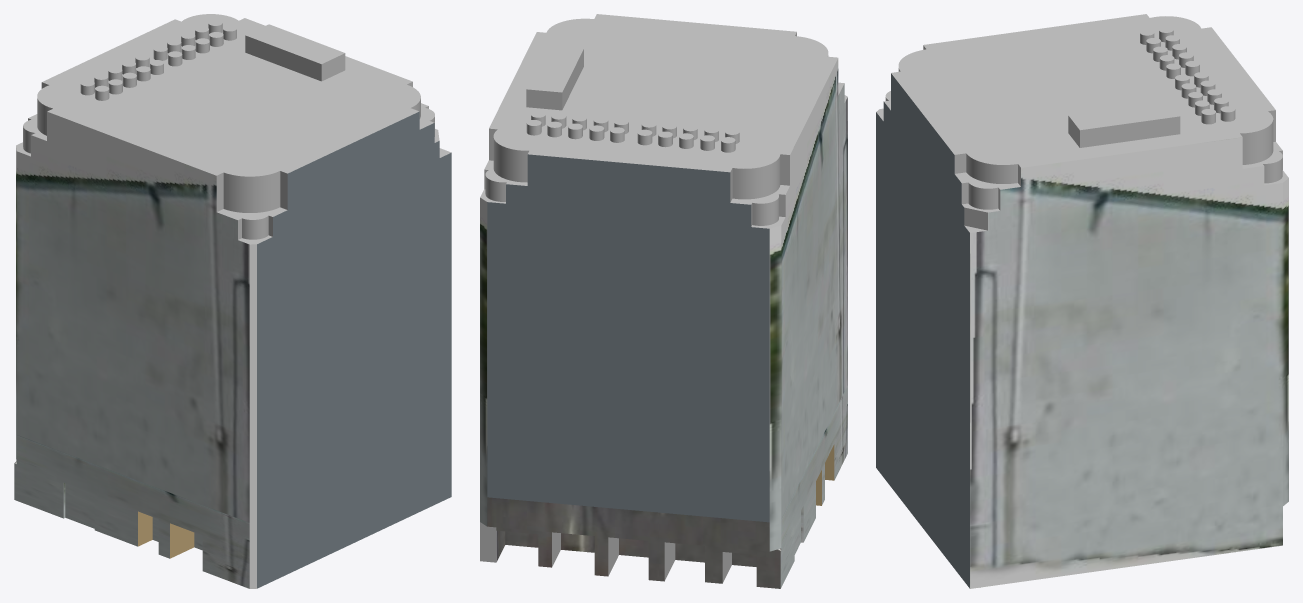
Rendered from predio07.fbx.
3 renders of one model, left to right at view 1: azimuth 30°, elevation 25°; view 2: azimuth 150°, elevation 25°; view 3: azimuth 270°, elevation 25°, orthographic. The views are drawn at different scales.
Visible parts, largest first — view 1: Model; view 2: Model; view 3: Model.
Boxes of the visible parts, x1,y1,x2,y2 form: Model: (14, 14, 451, 588); Model: (480, 14, 847, 588); Model: (876, 14, 1288, 588).
Bounding box in the file's own units: 65.19 × 78.64 × 68.11.
